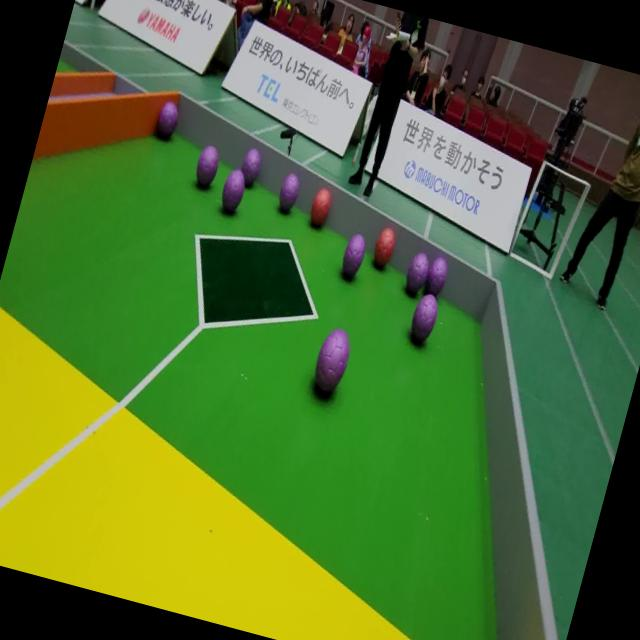purple_ball: (307, 326, 355, 404), (406, 289, 442, 345), (336, 230, 370, 284), (216, 165, 249, 217), (190, 141, 223, 193), (400, 247, 432, 298), (235, 144, 266, 192), (152, 98, 182, 146), (420, 253, 450, 300), (276, 170, 302, 212)
red_ball: (366, 220, 401, 274), (307, 184, 334, 229)
